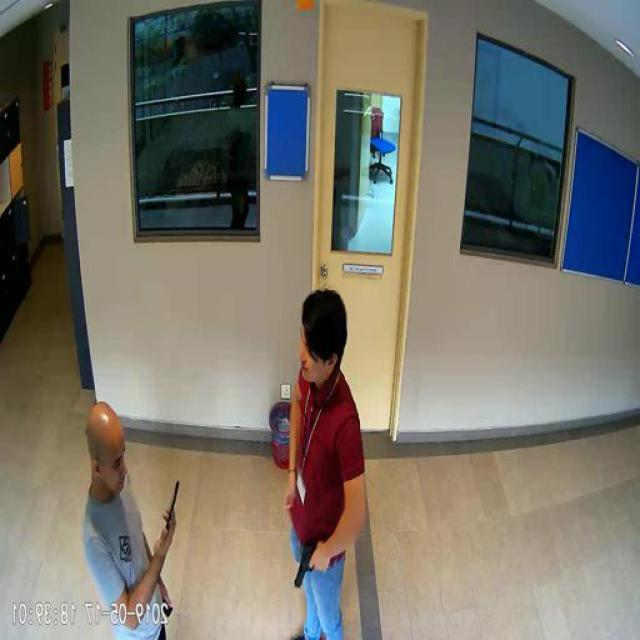weapon: (293, 542, 335, 590)
